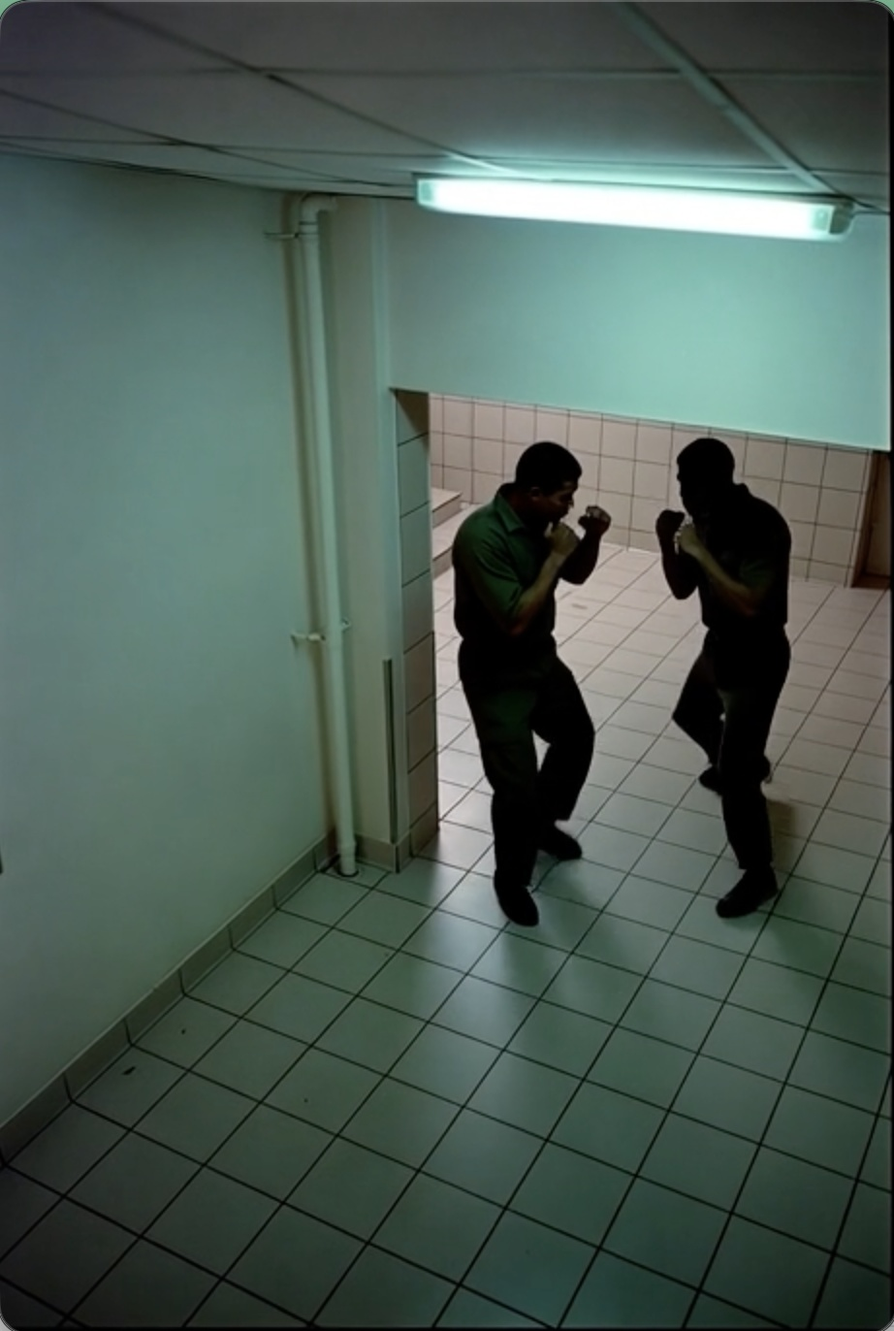Assault: (655, 436, 795, 921)
Fighting: (451, 441, 613, 927)
